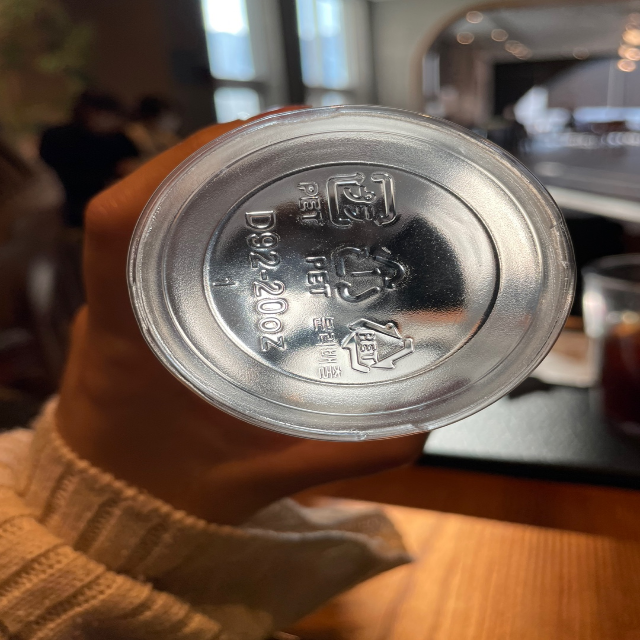pet: (302, 239, 416, 306), (310, 308, 415, 379), (293, 166, 403, 230)
